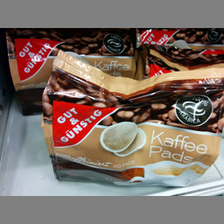coffee: (41, 52, 223, 186)
